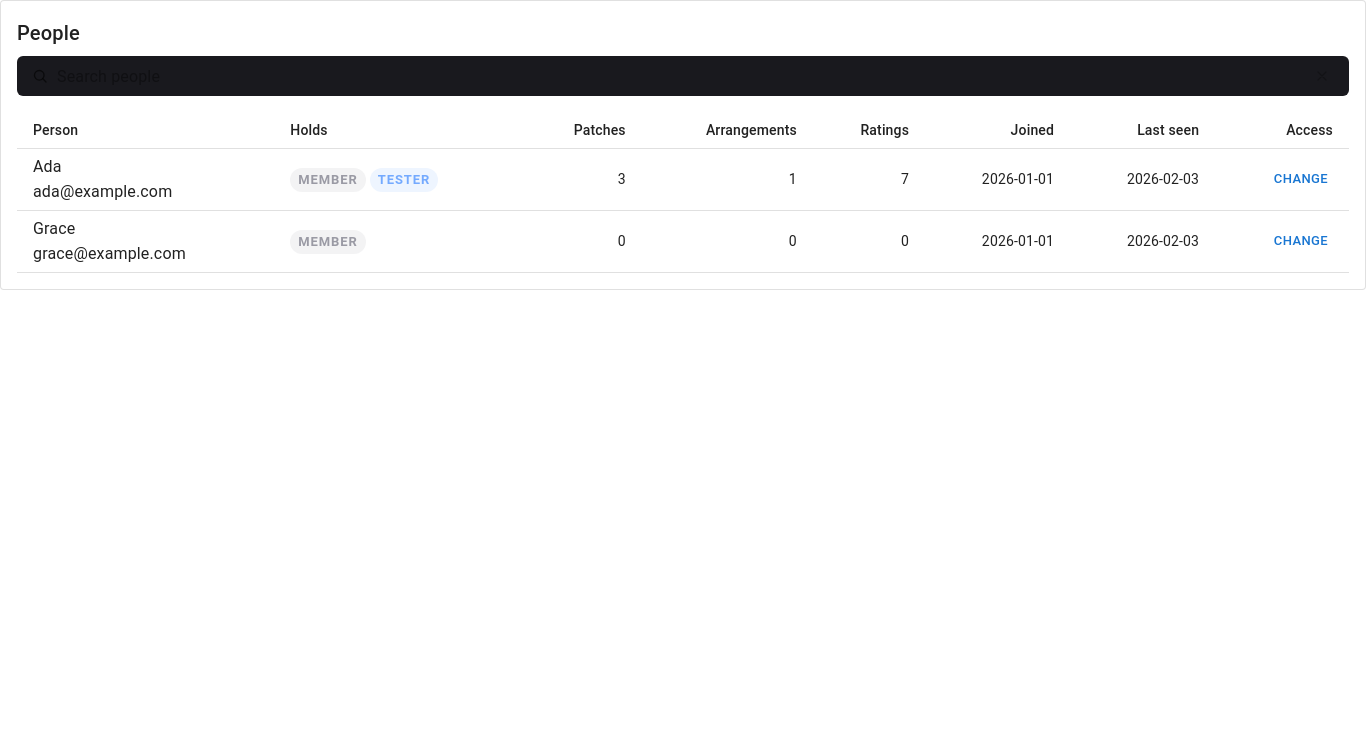
Test case: the editor › says what a privilege lets somebody do, behind the info icon
This screenshot has width=1366, height=743.
Click the button "Change" in the row of "ada@example.com" at {"x": 1301, "y": 180}, box x1=1269 y1=164 x2=1333 y2=195
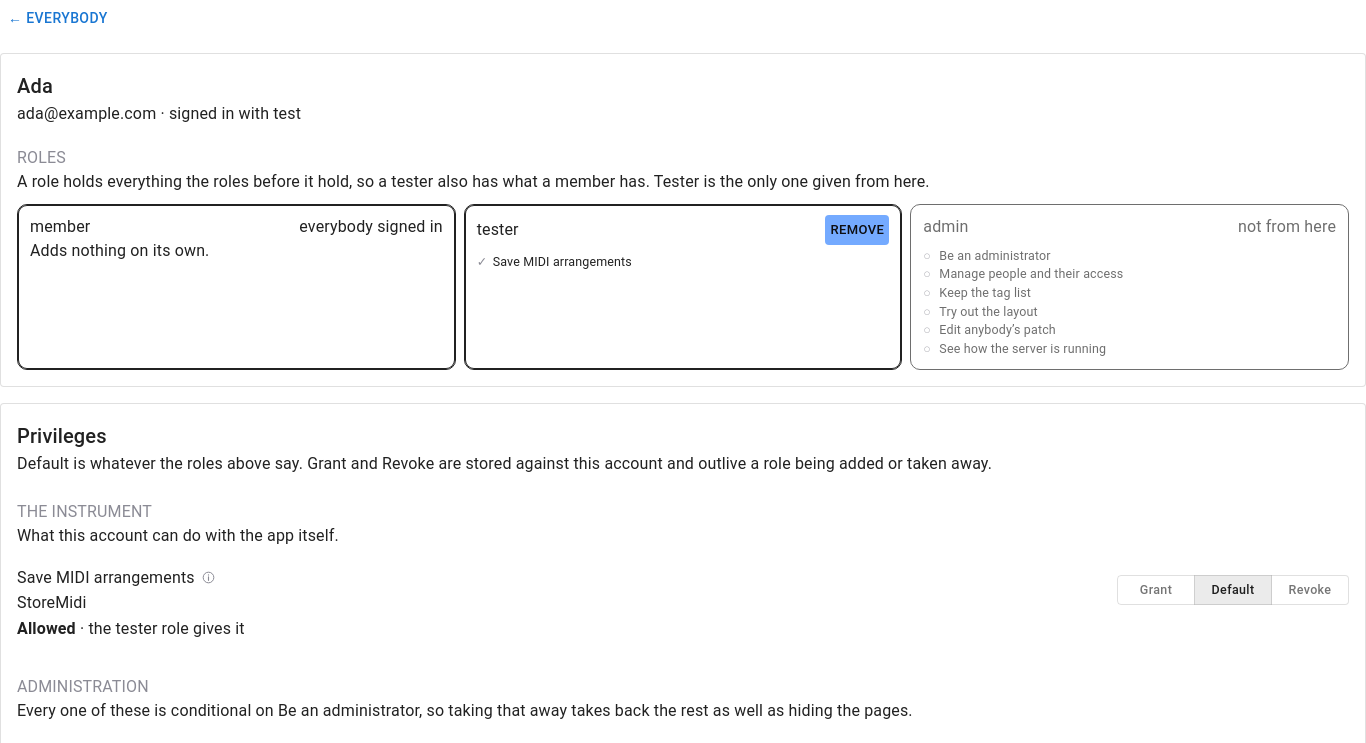
Hover over the button named "About StoreMidi" at {"x": 208, "y": 578}, box x1=201 y1=570 x2=216 y2=585
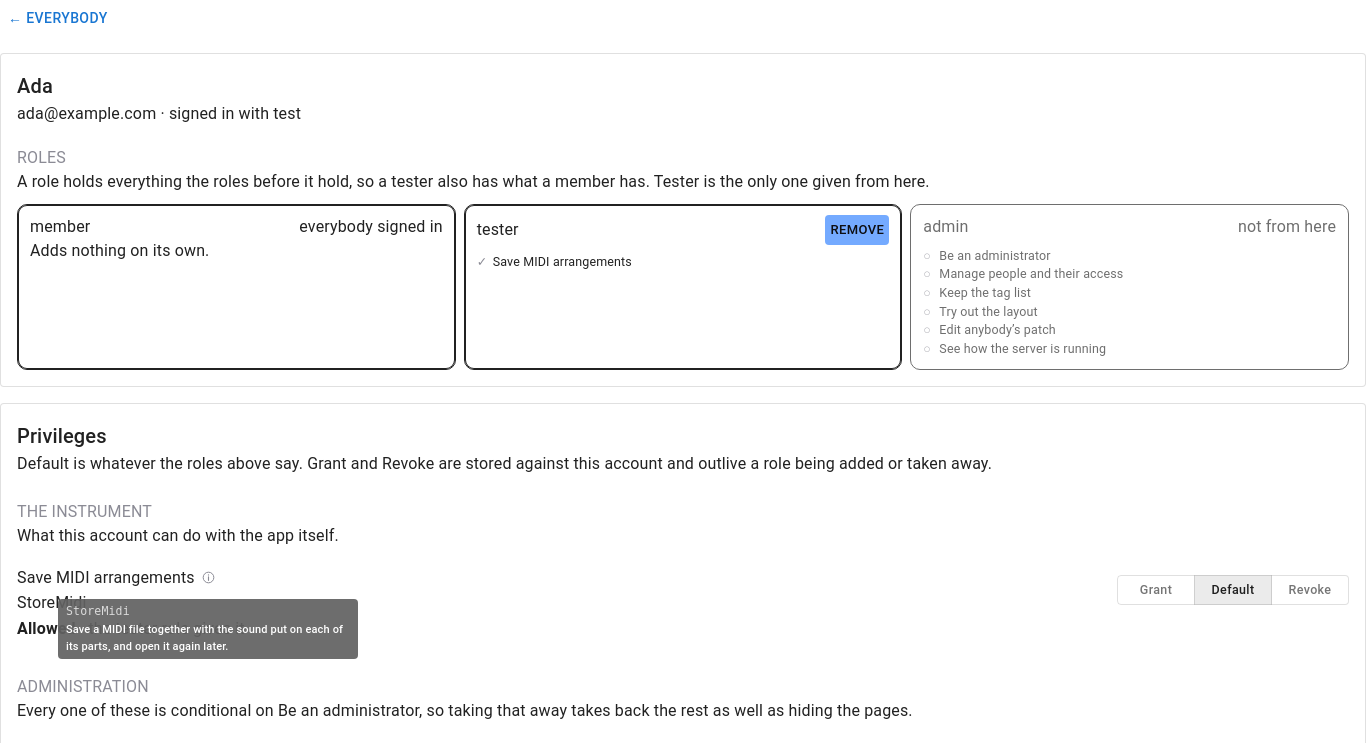
Check: the text "Save a MIDI file together with the sound" is shown, box x1=66 y1=623 x2=343 y2=653
